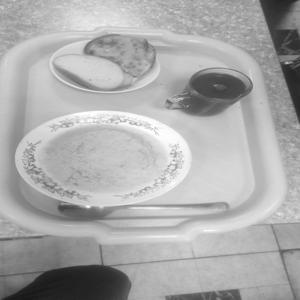bread: (42, 48, 128, 95)
cheese_sandwich: (83, 20, 164, 85)
coffee: (166, 56, 265, 125)
porridge: (33, 101, 188, 218)
